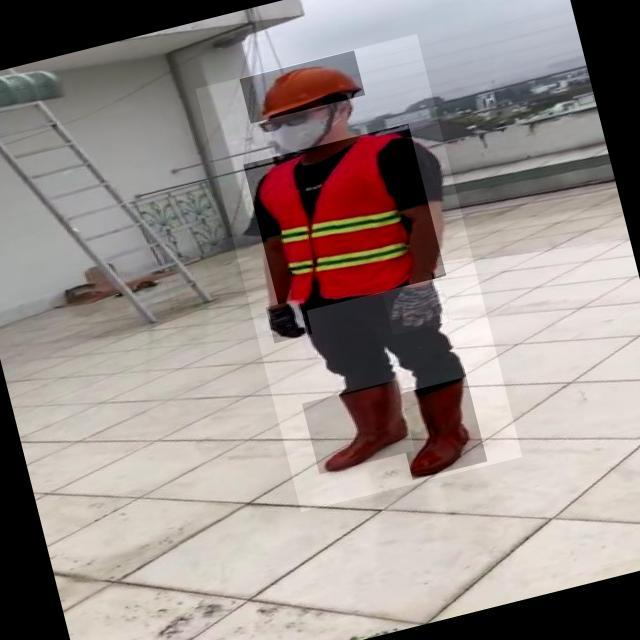Gloves: (383, 277, 450, 335), (265, 298, 312, 343)
Helmet: (239, 51, 365, 124)
Human: (195, 33, 522, 511)
Safety Boot: (302, 379, 415, 474), (392, 376, 489, 479)
Safety Vest: (243, 123, 446, 316)
